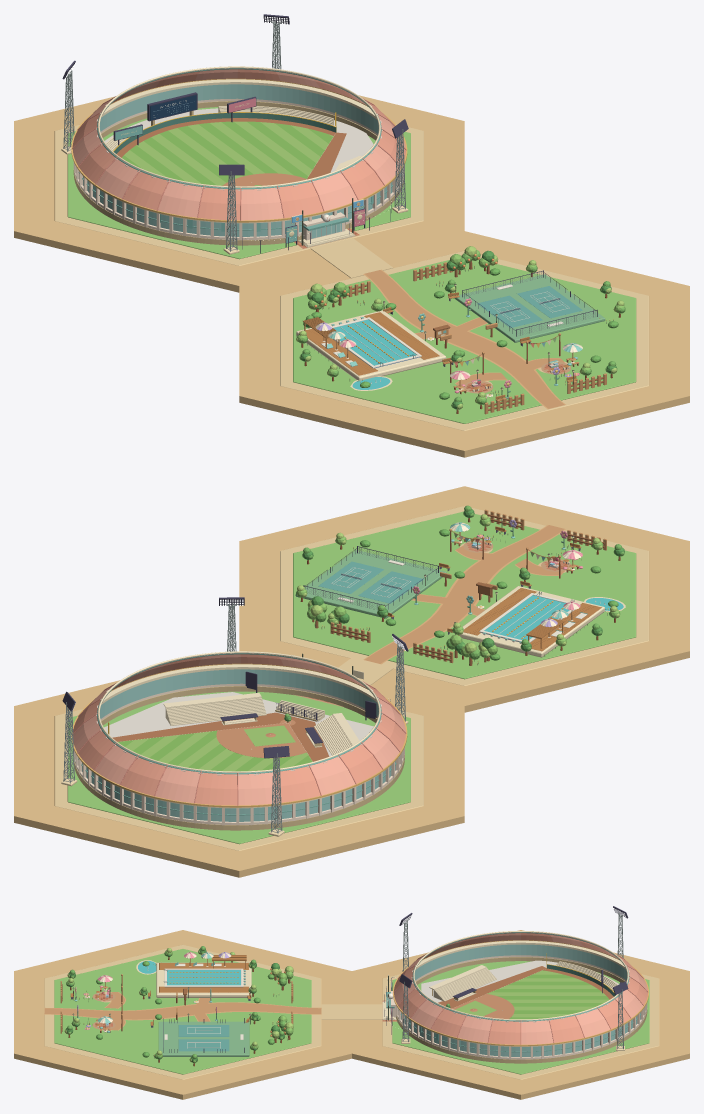
Rendered from park-mobile.glb.
The picture shows the model from 3 angles, top to bottom: view 1: azimuth 30°, elevation 25°; view 2: azimuth 150°, elevation 25°; view 3: azimuth 270°, elevation 25°; orthographic projection. The views are drawn at different scales.
Size of the model in its own units: 10.25 by 2.15 by 17.75.
